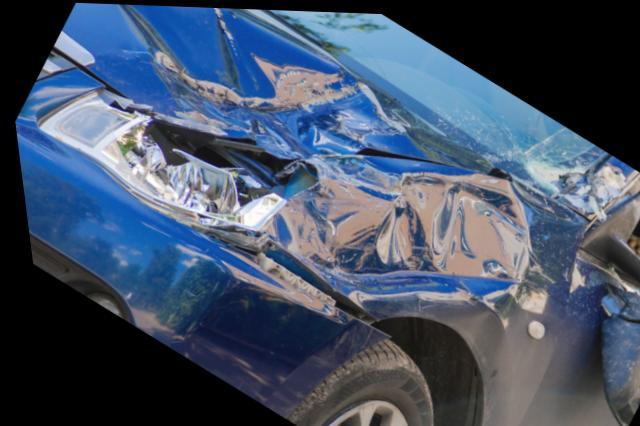dent: (115, 3, 414, 158), (252, 149, 525, 301)
dislocated part: (591, 239, 640, 426)
glass shatter: (267, 8, 606, 195)
lamp broken: (39, 88, 312, 254)
